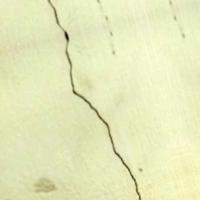crack: (44, 0, 150, 199)
